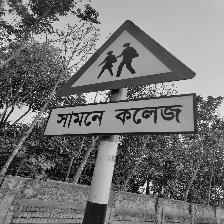College-in-front: (46, 13, 208, 131)
